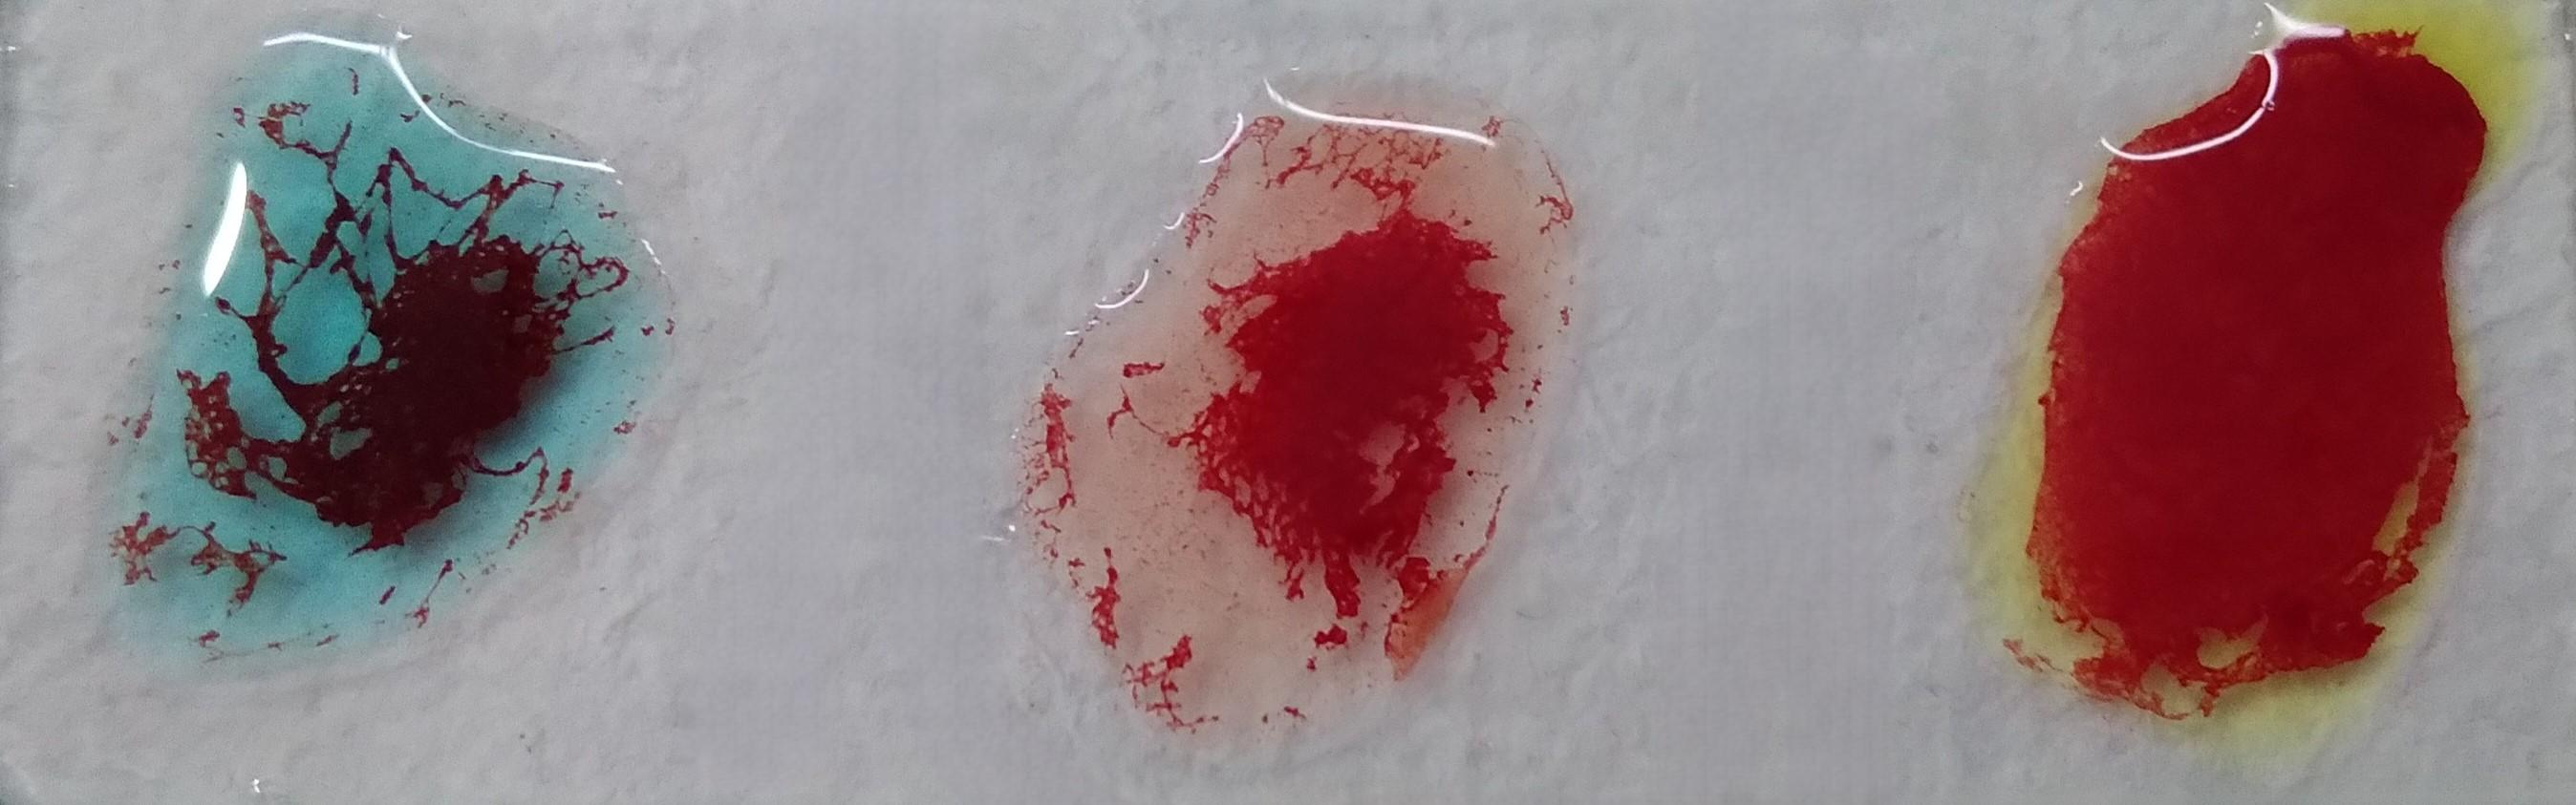A: (95, 39, 662, 667)
B: (2050, 13, 2466, 738)
D: (1050, 95, 1513, 757)
